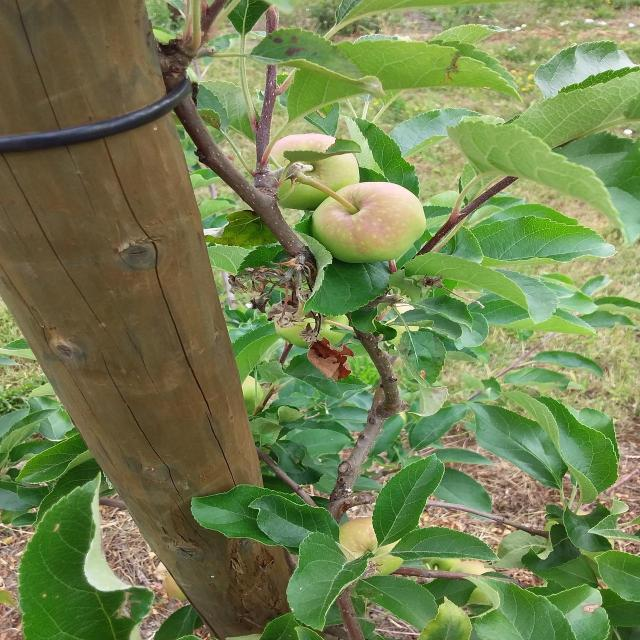-FireBlight-: (304, 329, 352, 380)
